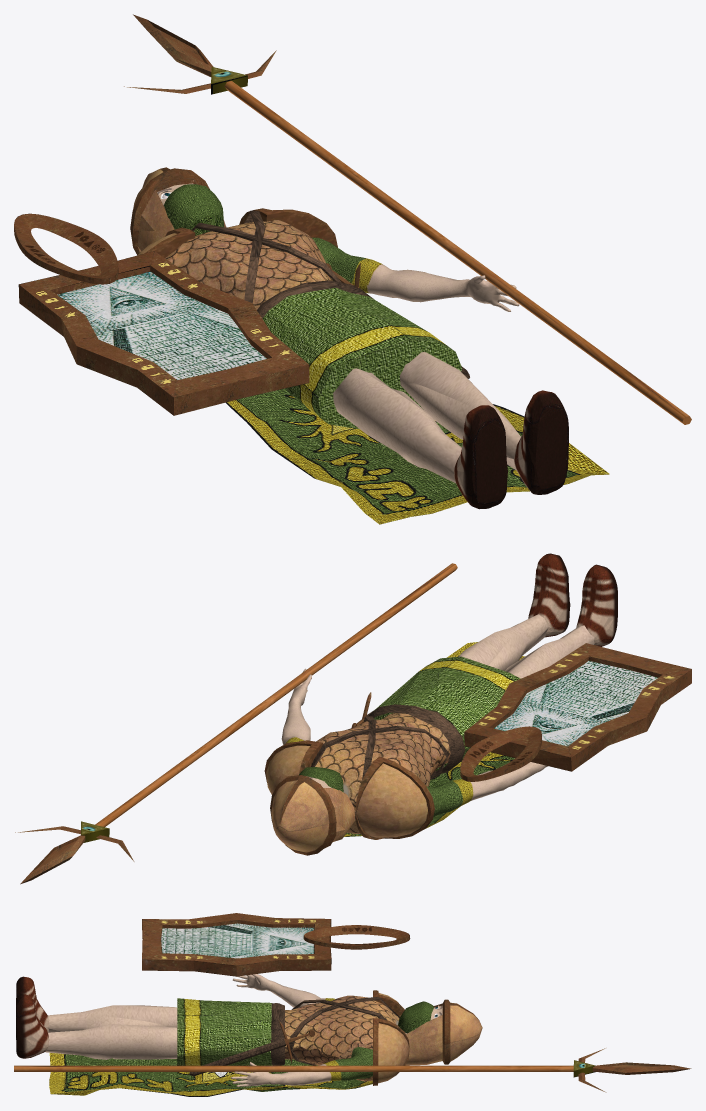
3 renders of one model, top to bottom at view 1: azimuth 30°, elevation 25°; view 2: azimuth 150°, elevation 25°; view 3: azimuth 270°, elevation 25°, orthographic. The views are drawn at different scales.
Parts seen in each view (by area): view 1: ShieldBorder, Cape002, Skirt, ShieldCenter, Shirt, RightLeg, SpearHandle, LeftArm, LeftLeg, ShoeLeft, ShoeLeft001, ShieldTop (+8 smaller); view 2: ShieldBorder, ShieldCenter, Skirt, Shirt, Helmet, R_Shoulderpad, SpearHandle, ShoeLeft001, ShoeLeft, LeftLeg, RightArm, ShieldTop (+8 smaller); view 3: ShieldBorder, Cape002, Skirt, Shirt, ShieldCenter, LeftLeg, SpearHandle, Helmet, RightLeg, LeftArm, L_Shoulderpad, ShoeLeft (+11 smaller).
Boxes of the visible parts, x1=… form: ShieldBorder: x1=18, y1=251, x2=309, y2=415; Cape002: x1=226, y1=388, x2=609, y2=523; Skirt: x1=262, y1=287, x2=462, y2=429; ShieldCenter: x1=57, y1=271, x2=266, y2=379; Shirt: x1=165, y1=220, x2=332, y2=309; RightLeg: x1=333, y1=368, x2=461, y2=483; SpearHandle: x1=224, y1=81, x2=691, y2=424; LeftArm: x1=312, y1=237, x2=519, y2=311; LeftLeg: x1=400, y1=351, x2=520, y2=470; ShoeLeft: x1=514, y1=390, x2=568, y2=494; ShoeLeft001: x1=454, y1=405, x2=507, y2=509; ShieldTop: x1=14, y1=213, x2=118, y2=284; ShieldBorder: x1=464, y1=643, x2=691, y2=771; ShieldCenter: x1=494, y1=661, x2=657, y2=746; Skirt: x1=374, y1=656, x2=520, y2=770; Shirt: x1=315, y1=713, x2=450, y2=833; Helmet: x1=270, y1=775, x2=355, y2=855; R_Shoulderpad: x1=355, y1=756, x2=434, y2=839; SpearHandle: x1=95, y1=563, x2=457, y2=827; ShoeLeft001: x1=576, y1=564, x2=617, y2=646; ShoeLeft: x1=528, y1=553, x2=570, y2=637; LeftLeg: x1=458, y1=614, x2=549, y2=670; RightArm: x1=426, y1=762, x2=548, y2=816; ShieldTop: x1=460, y1=726, x2=541, y2=781; ShieldBorder: x1=142, y1=913, x2=331, y2=976; Cape002: x1=49, y1=1053, x2=372, y2=1096; Skirt: x1=177, y1=998, x2=271, y2=1065; Shirt: x1=285, y1=995, x2=399, y2=1081; ShieldCenter: x1=161, y1=923, x2=314, y2=958; LeftLeg: x1=45, y1=1024, x2=177, y2=1059; SpearHandle: x1=14, y1=1065, x2=573, y2=1071; Helmet: x1=405, y1=999, x2=482, y2=1065; RightLeg: x1=48, y1=1005, x2=177, y2=1032; LeftArm: x1=231, y1=1047, x2=372, y2=1086; L_Shoulderpad: x1=372, y1=1018, x2=409, y2=1085; ShoeLeft: x1=16, y1=994, x2=49, y2=1058.
Size of the model in its own units: 21.58 by 5.79 by 41.08.
Materials: 18 (18 with a texture image).
